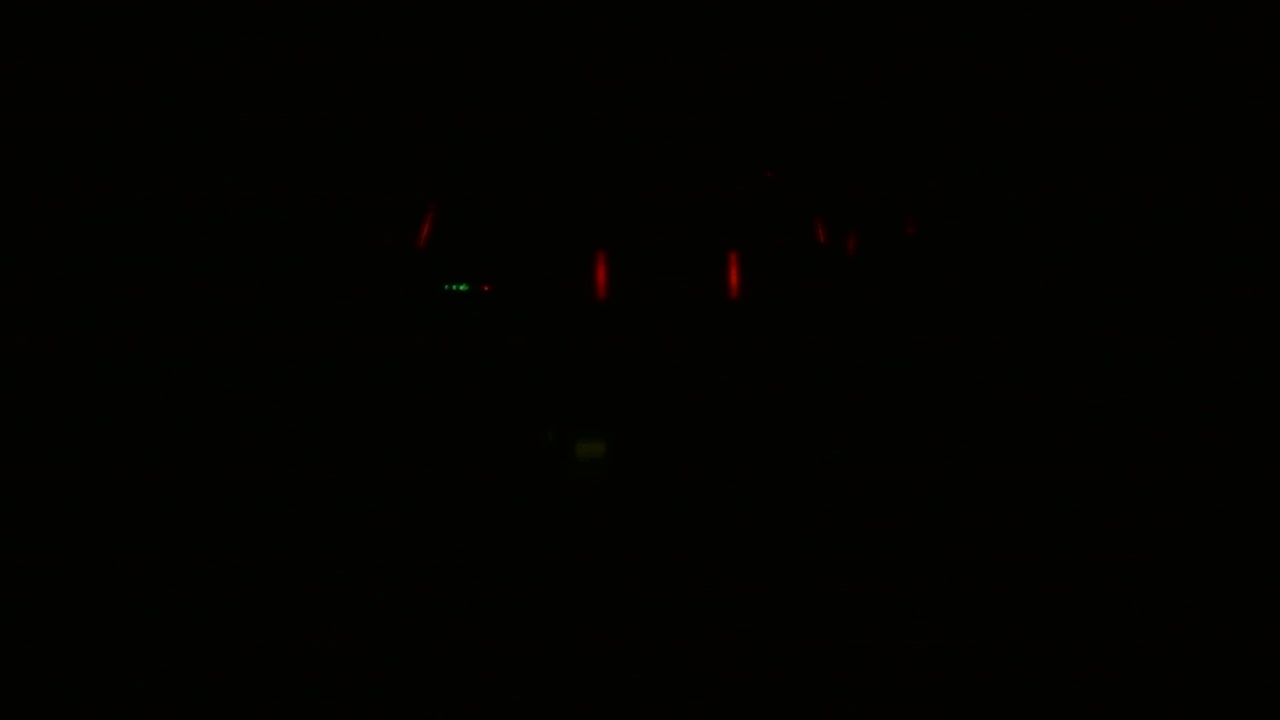pair1: (590, 251, 743, 300)
